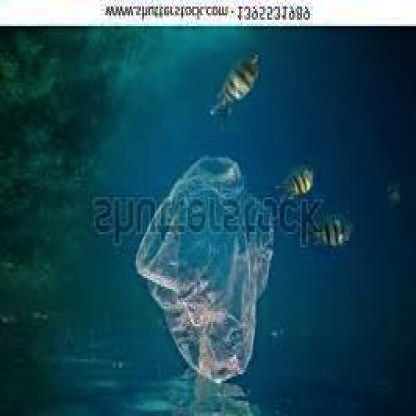pbag: (125, 151, 280, 399)
